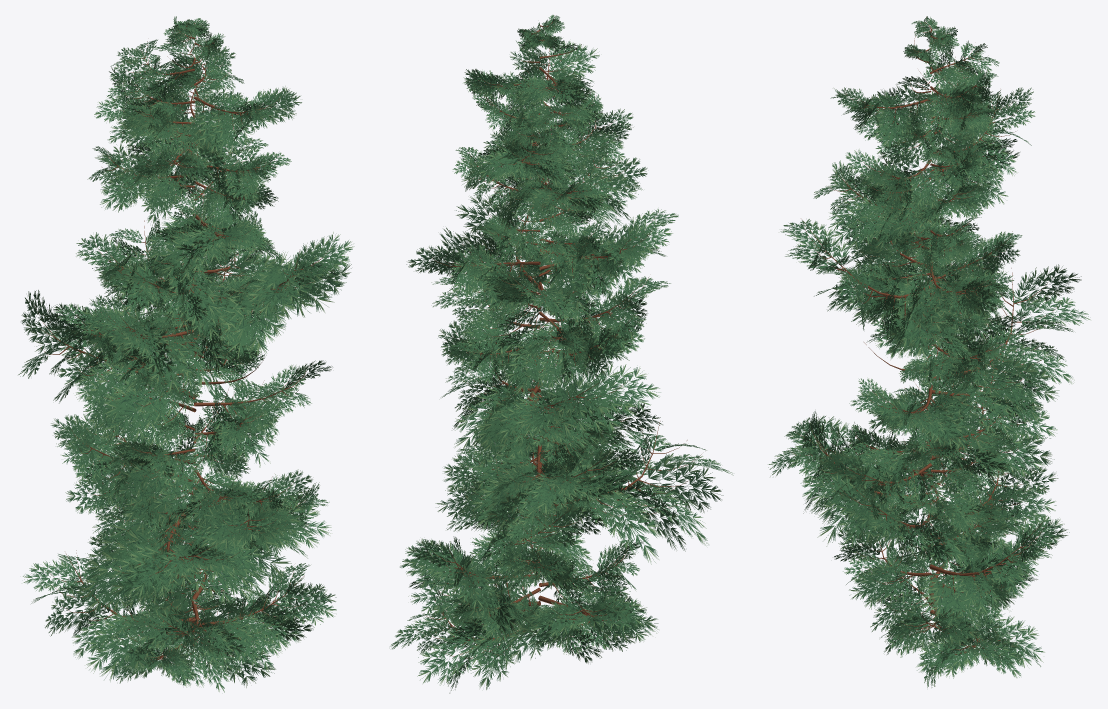
Rendered from forest-pine-lod0.glb.
The picture shows the model from 3 angles, left to right: view 1: azimuth 30°, elevation 25°; view 2: azimuth 150°, elevation 25°; view 3: azimuth 270°, elevation 25°; orthographic projection. The views are drawn at different scales.
Parts seen in each view (by area): view 1: redwood-crown; view 2: redwood-crown; view 3: redwood-crown.
Boxes of the visible parts, left/top/right/bottom form: redwood-crown: left=18, top=16, right=354, bottom=692; redwood-crown: left=390, top=15, right=733, bottom=693; redwood-crown: left=768, top=16, right=1090, bottom=687.
Bounding box in the file's own units: 15.75 × 37.12 × 17.12.
Materials: 7 (3 with a texture image).
